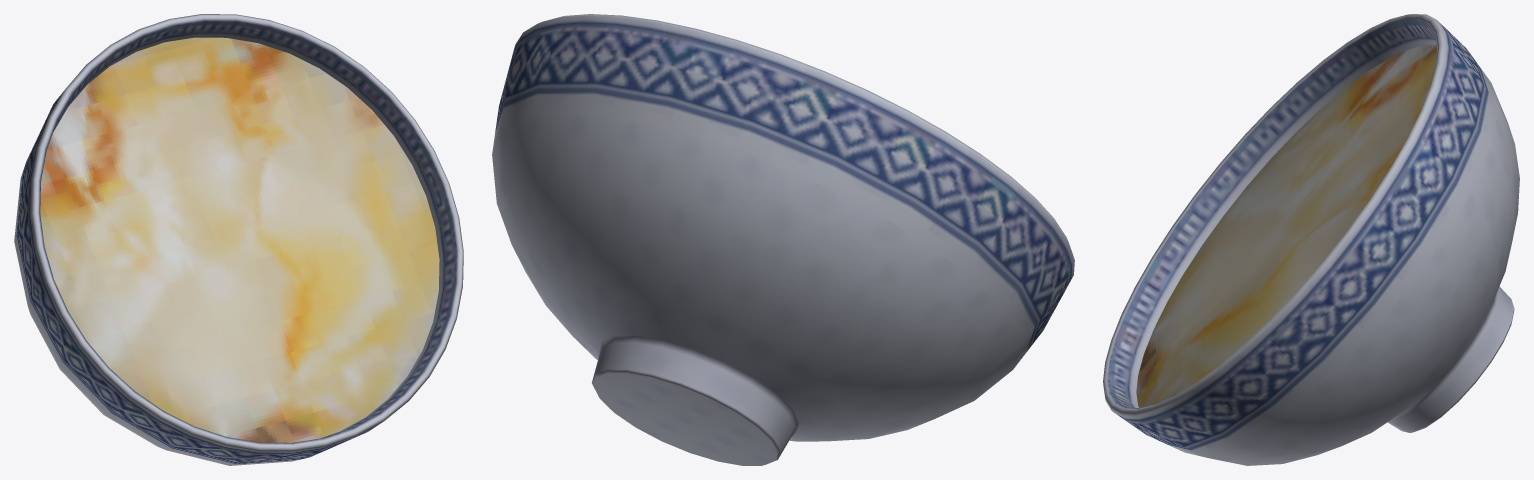
File: ref_bftofupudding.fbx
3 renders of one model, left to right at view 1: azimuth 30°, elevation 25°; view 2: azimuth 150°, elevation 25°; view 3: azimuth 270°, elevation 25°, orthographic. The views are drawn at different scales.
Visible parts, largest first — view 1: ref_bftofupudding; view 2: ref_bftofupudding; view 3: ref_bftofupudding.
Boxes of the visible parts, x1,y1,x2,y2 form: ref_bftofupudding: (14, 14, 463, 465); ref_bftofupudding: (492, 14, 1074, 465); ref_bftofupudding: (1103, 14, 1519, 465).
Bounding box in the file's own units: 100 × 85.88 × 81.95.
1 material, 1 textured.
